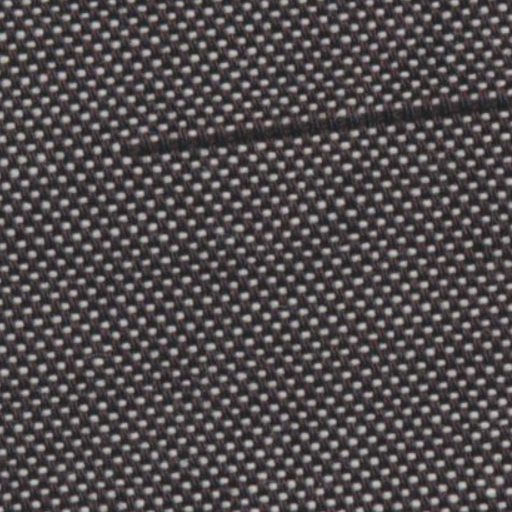DaiSha: (116, 91, 502, 155)
